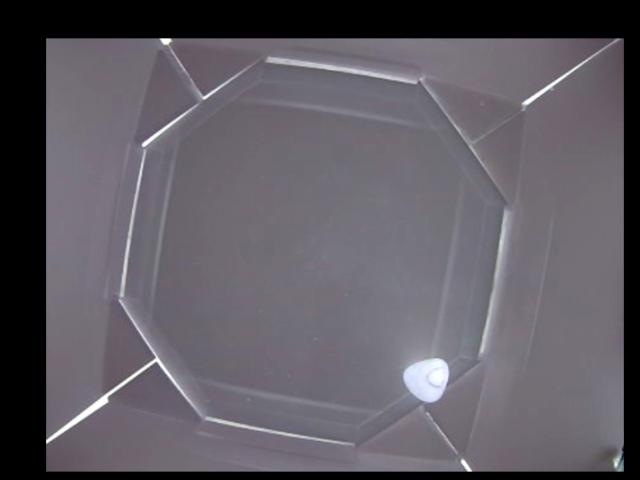Pebble: (407, 356, 447, 401)
